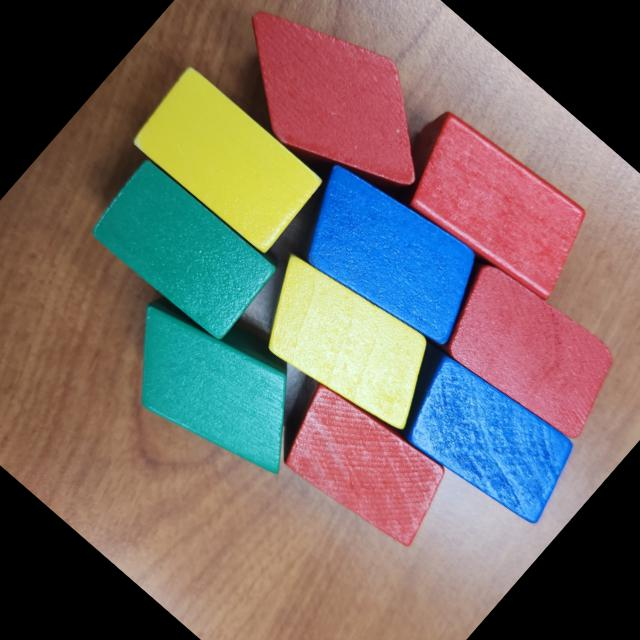blue: (276, 147, 508, 371), (370, 328, 594, 542)
green: (92, 266, 342, 508), (82, 154, 283, 348)
red: (203, 0, 464, 227), (382, 100, 606, 314), (250, 357, 465, 563), (422, 247, 635, 453)
yellow: (234, 236, 459, 454), (126, 63, 328, 257)
